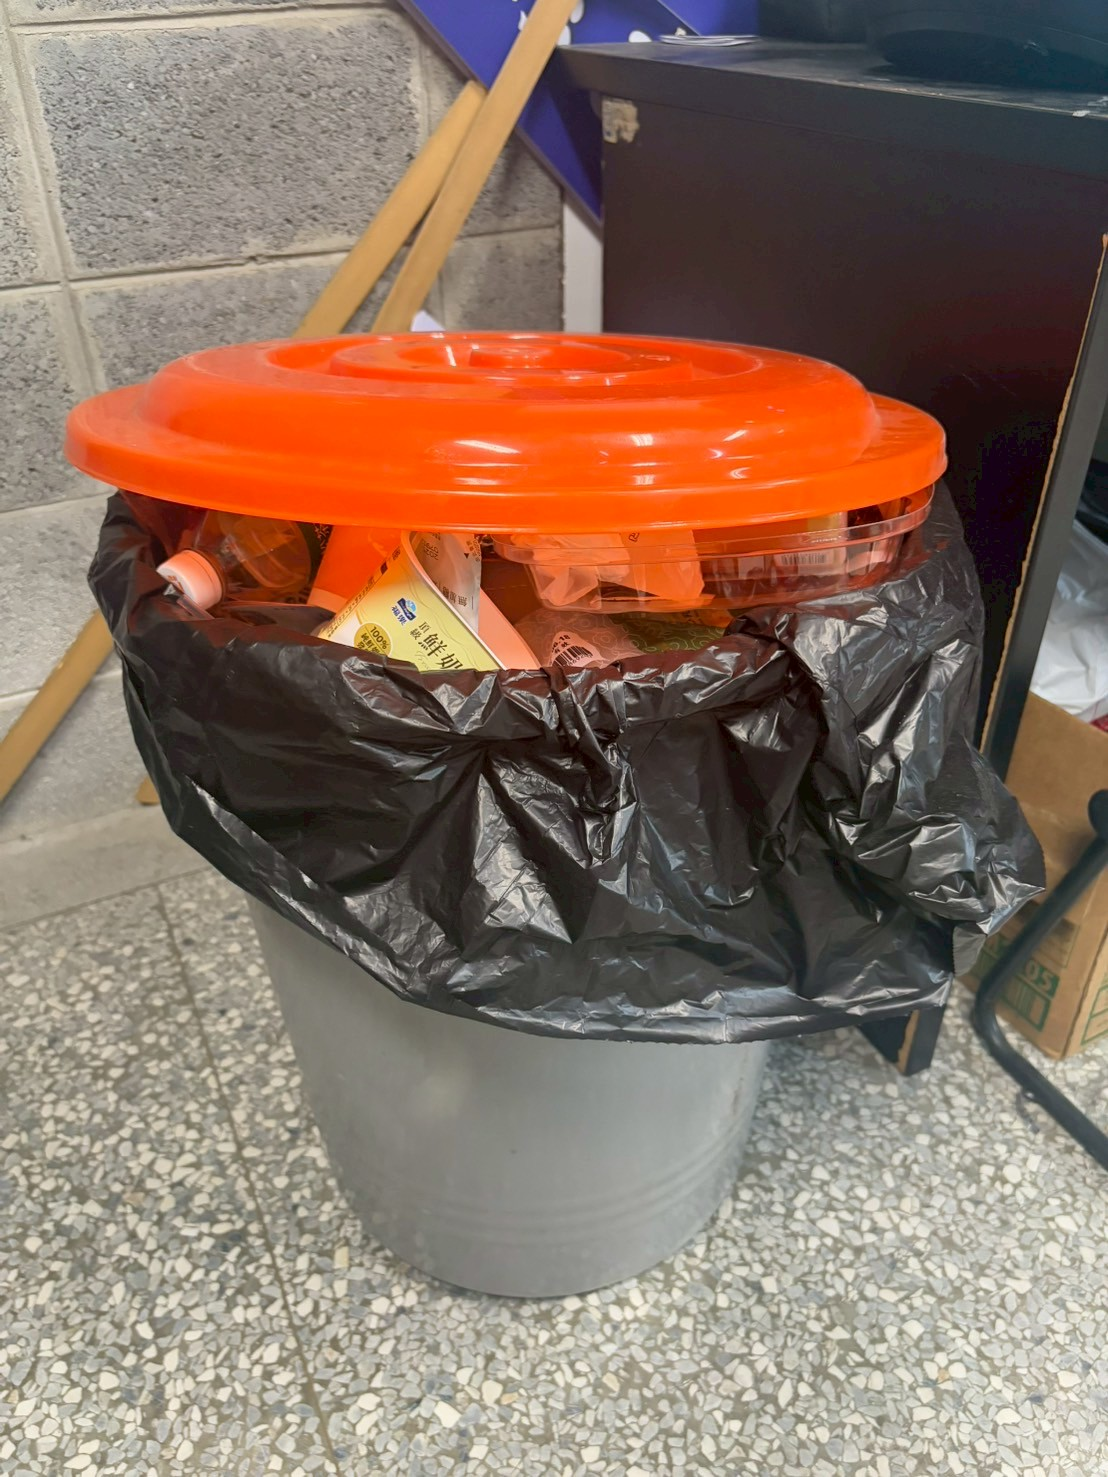overflow_bin: (61, 303, 1052, 1341)
